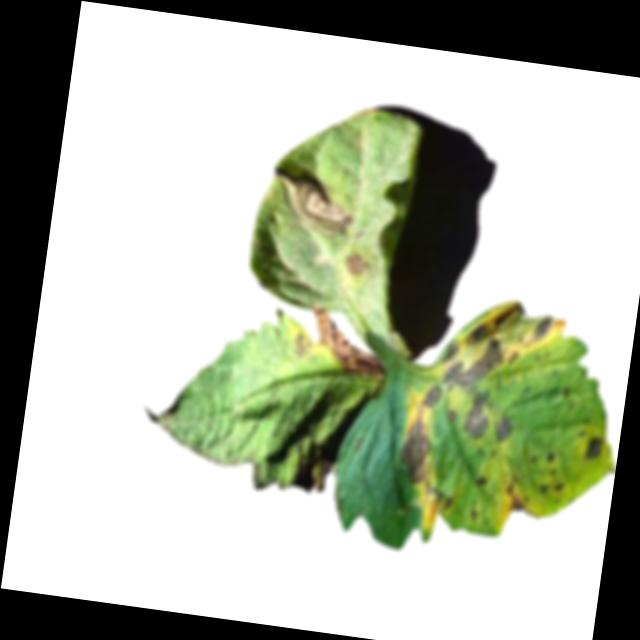Early_blight: (437, 290, 569, 406), (302, 300, 392, 379), (271, 165, 365, 239), (395, 409, 441, 488), (462, 388, 497, 440), (503, 476, 529, 518), (583, 431, 609, 461), (420, 382, 445, 411), (345, 250, 372, 276), (536, 477, 563, 497), (494, 416, 514, 442), (544, 450, 558, 465), (475, 472, 489, 486), (445, 407, 458, 421), (441, 496, 453, 511)
